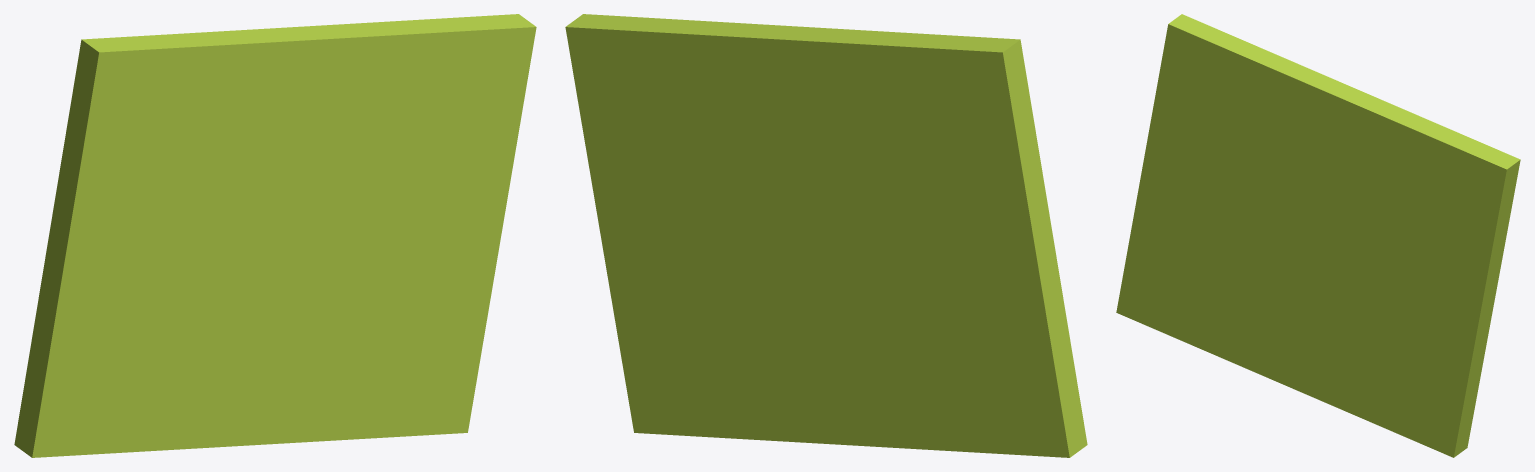
3 views of the same model, side by side, from view 1: azimuth 30°, elevation 25°; view 2: azimuth 150°, elevation 25°; view 3: azimuth 330°, elevation 25° (orthographic). The views are drawn at different scales.
Parts seen in each view (by area): view 1: osm-way27917482-F2; view 2: osm-way27917482-F2; view 3: osm-way27917482-F2.
Part boxes in pixels (<box>): osm-way27917482-F2: <box>14,14,536,457</box>; osm-way27917482-F2: <box>565,14,1087,457</box>; osm-way27917482-F2: <box>1116,14,1520,457</box>.
Bounding box in the file's own units: 2.46 × 2.19 × 0.15.
